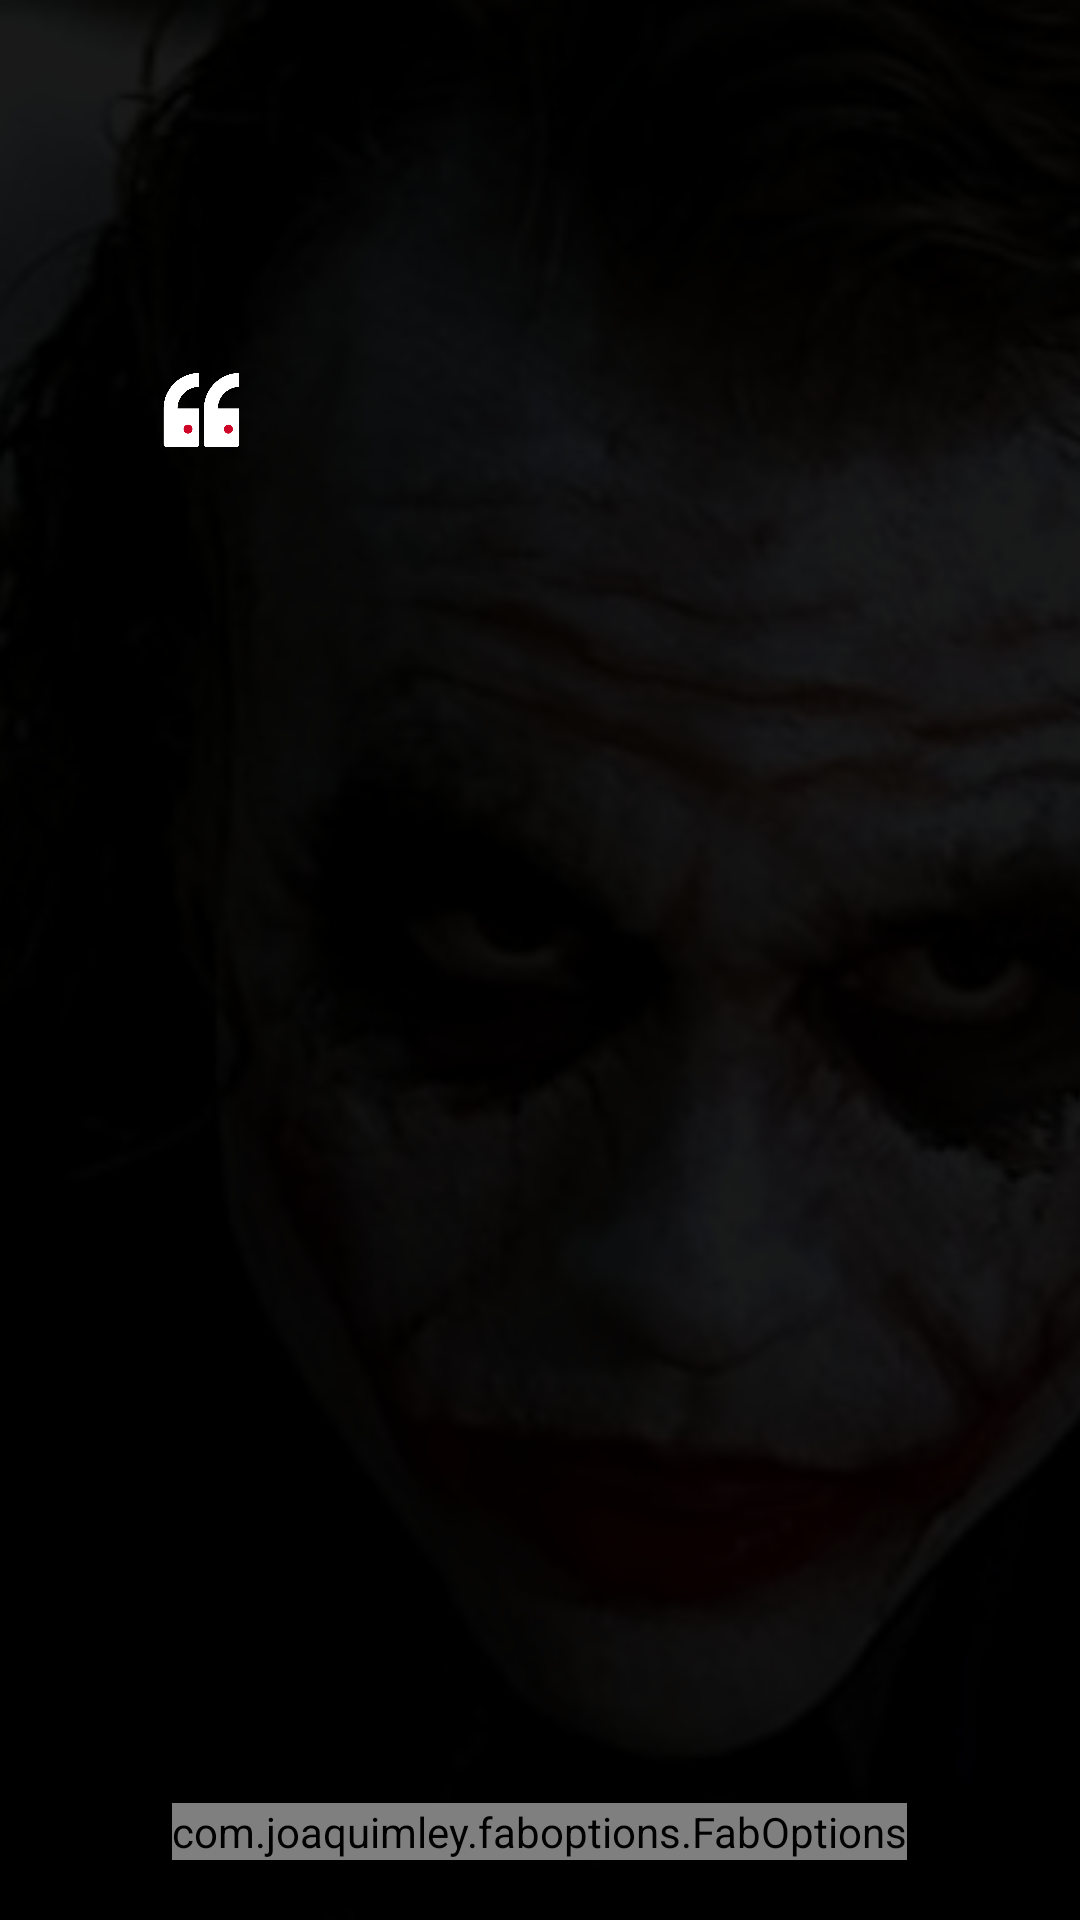

Where icons sit on this 1080*1920 app screen, as [x1,y1,x2,y2]:
quotes: [163,373,239,447]
